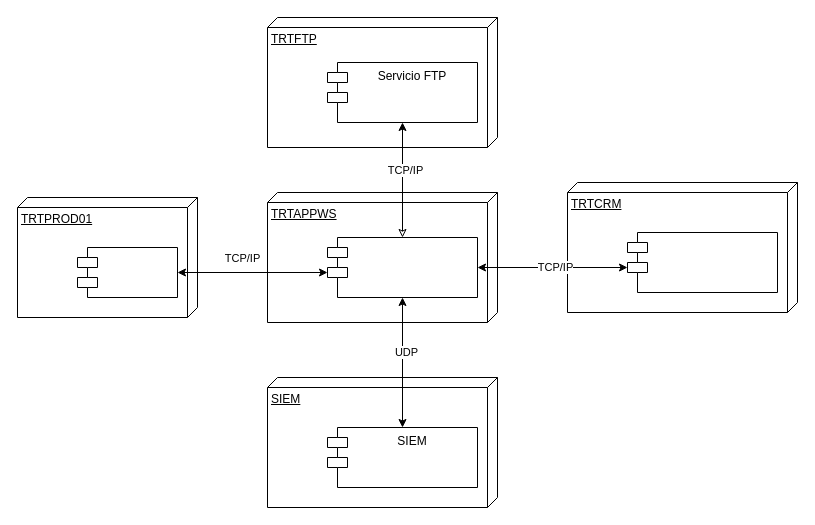
Image size: 815x525. Some labels were removed from this diagram. Here are the shapes that lost their labels. From the top down, the centre of each, then its label:
(127,272): Base de datos SQL Server
(402,267): PTC_RubricaDigital
(702,262): CRM SIGMA 7
